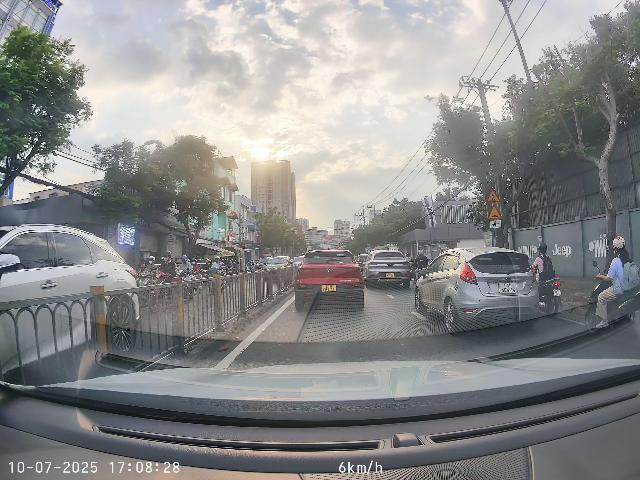221-duong-go-ghe: (488, 205, 501, 219)
224-duong-nguoi-di-bo-cat-ngang: (487, 188, 501, 203)
